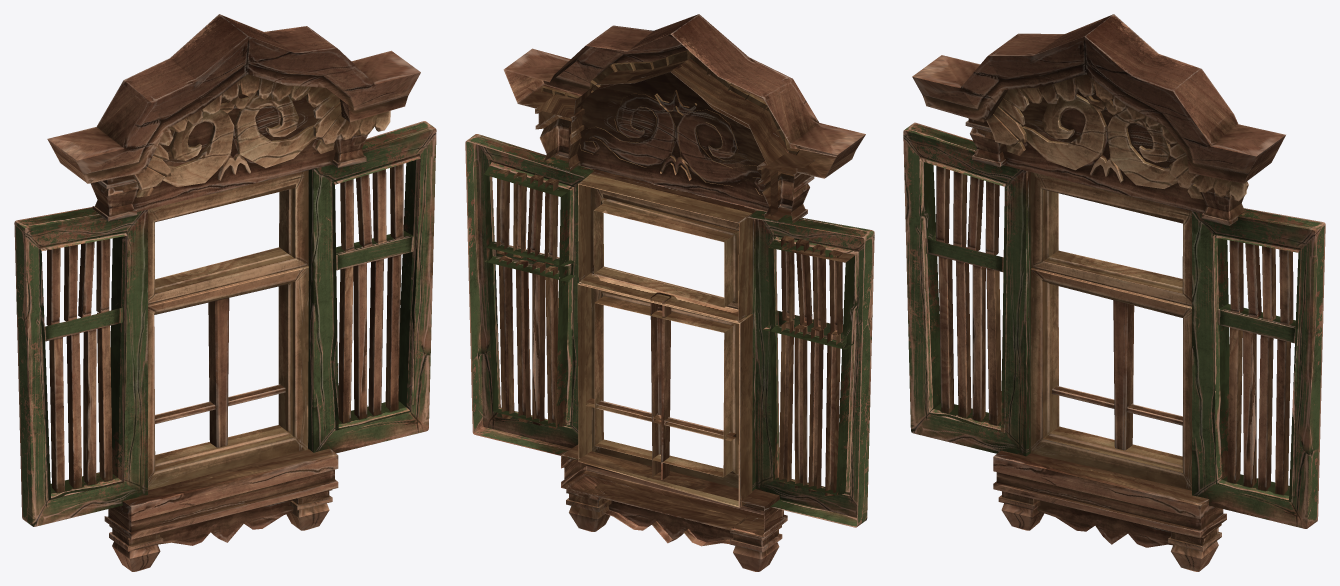
File: SM_Window.fbx
3 renders of one model, left to right at view 1: azimuth 30°, elevation 25°; view 2: azimuth 150°, elevation 25°; view 3: azimuth 330°, elevation 25°, orthographic. The views are drawn at different scales.
Parts seen in each view (by area): view 1: SM_Window_LOD0; view 2: SM_Window_LOD0; view 3: SM_Window_LOD0.
Boxes of the visible parts, x1,y1,x2,y2 form: SM_Window_LOD0: (14,14,436,571); SM_Window_LOD0: (465,14,874,571); SM_Window_LOD0: (903,14,1325,571).
Size of the model in its own units: 162 by 27.1 by 201.
Materials: 1 (1 with a texture image).
